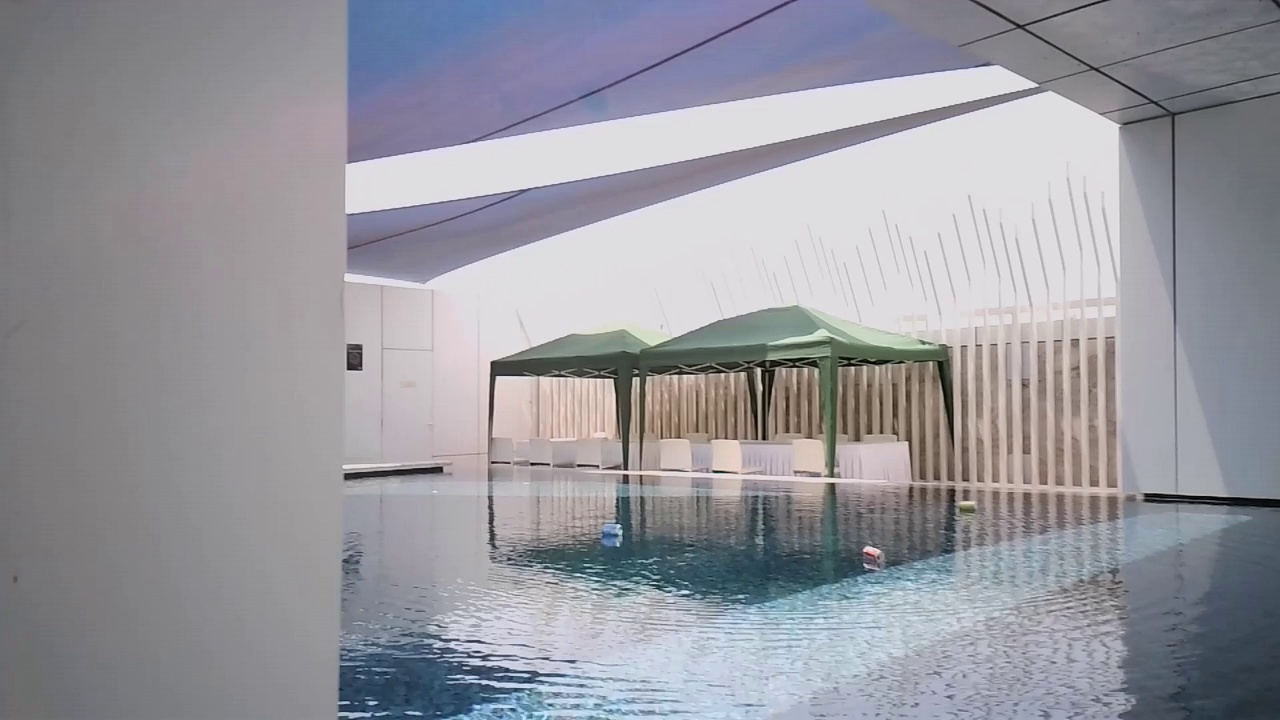debris: (858, 540, 886, 569), (598, 519, 625, 539), (956, 498, 978, 518)
